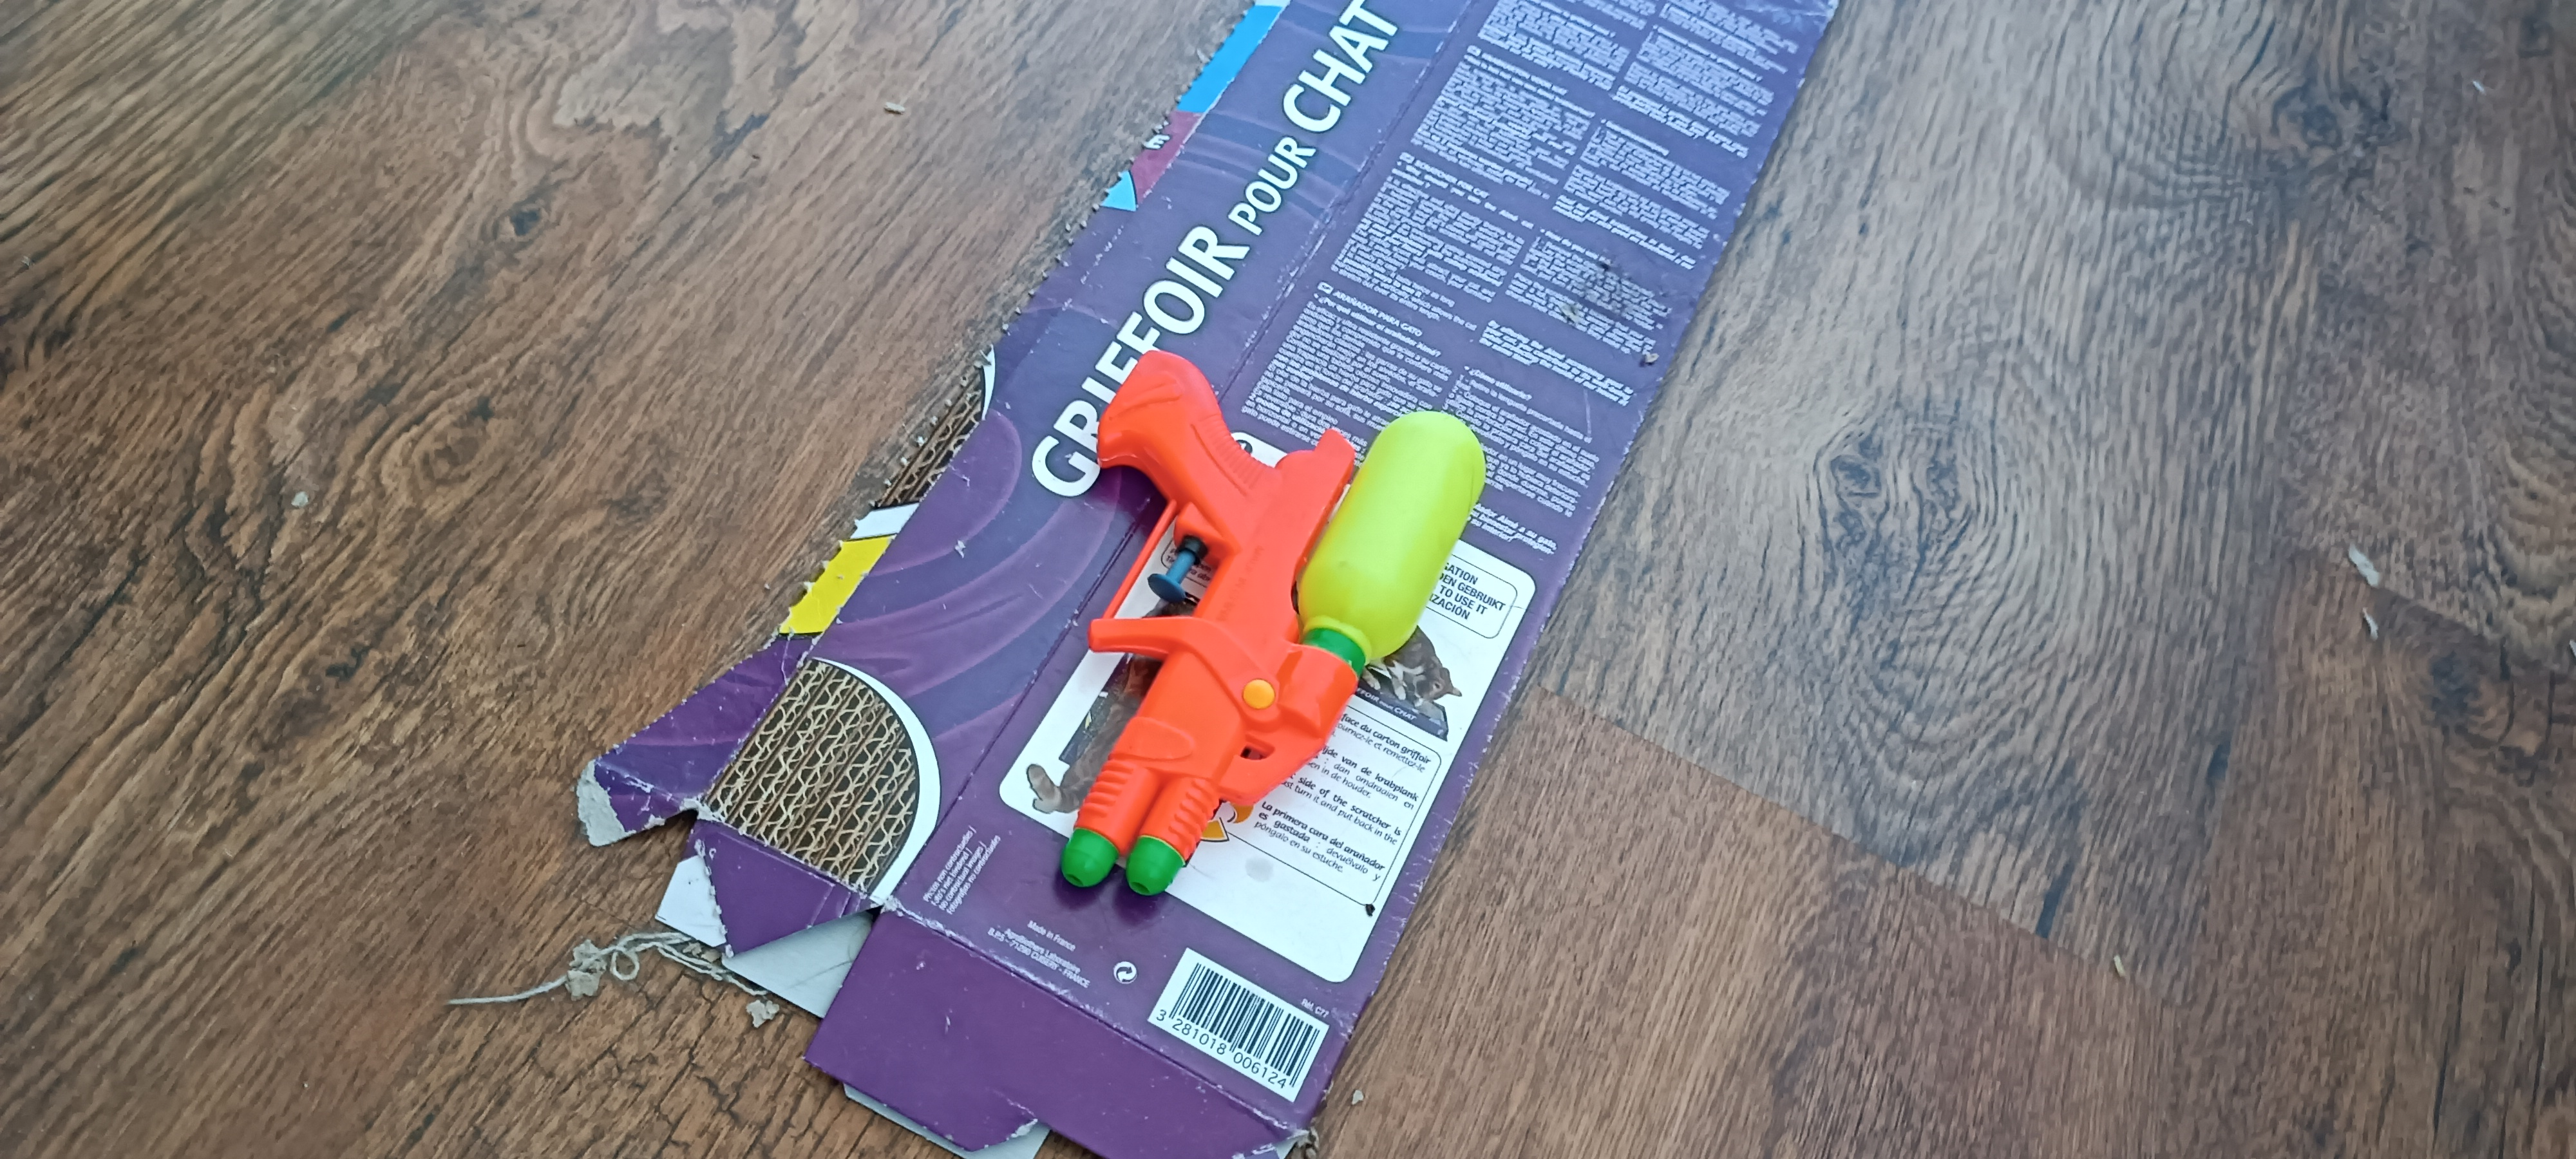Water Gun: (1060, 350, 1487, 896)
